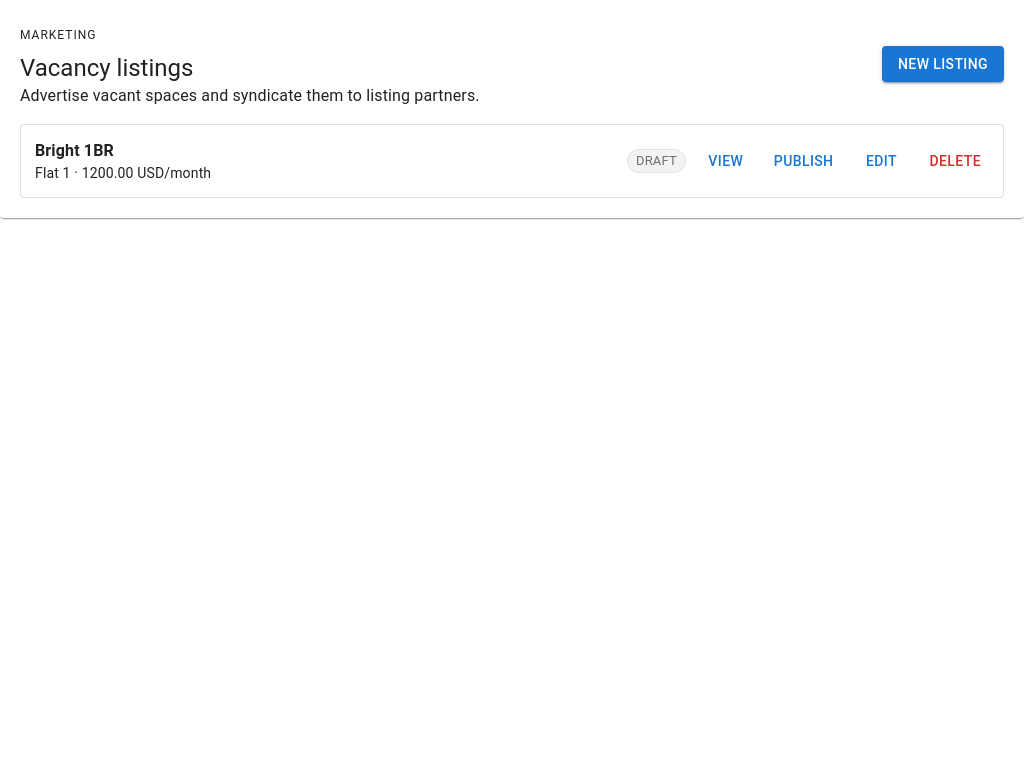
Test: requires at least one channel before publishing
This screenshot has width=1024, height=768.
Click the button "Publish" at (804, 161), box [766,143,842,179]
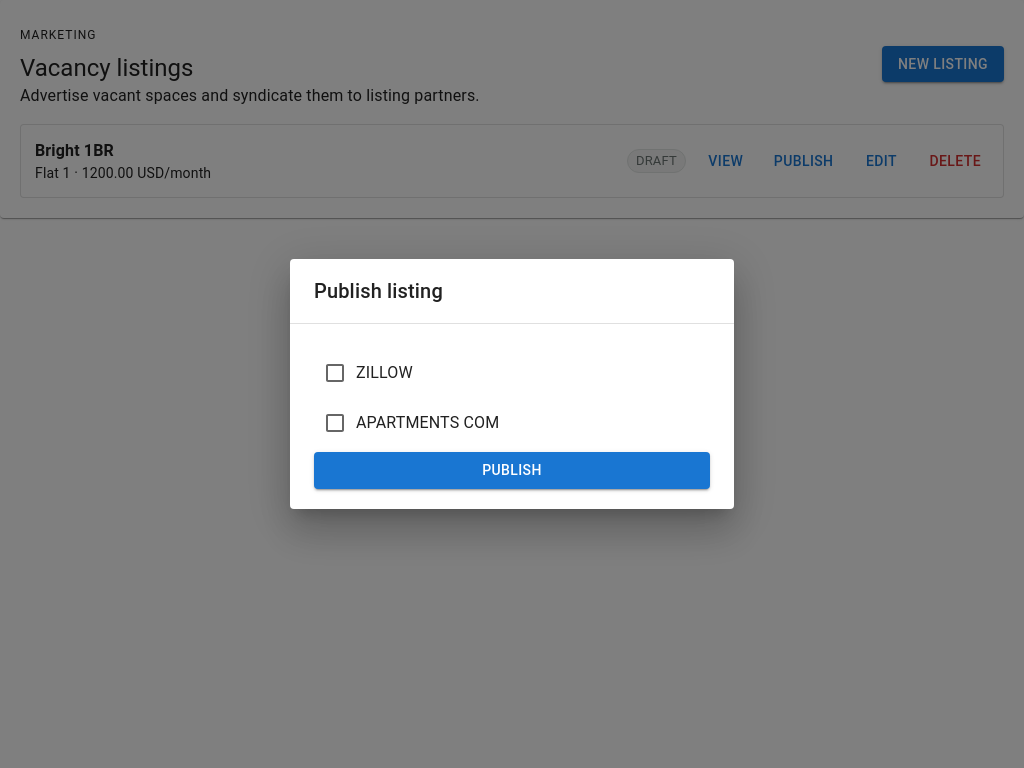
Click the button "Publish" at (512, 471), box [314,452,710,489]
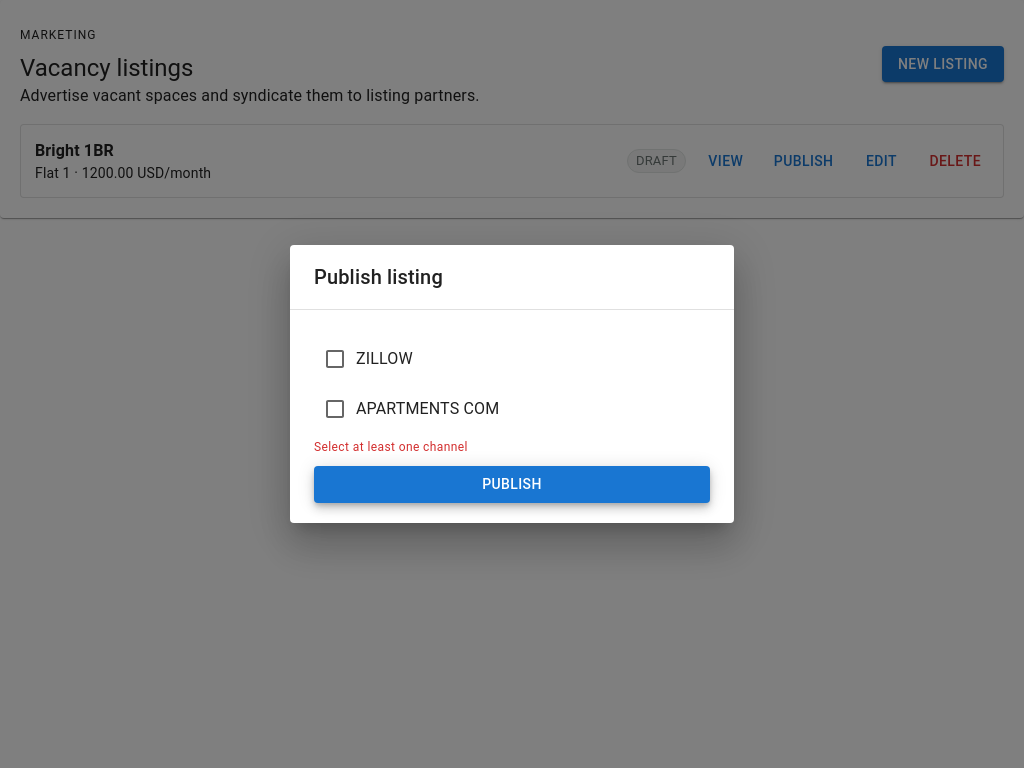
Result: the text "Select at least one channel" is shown at [314,440,468,454]
